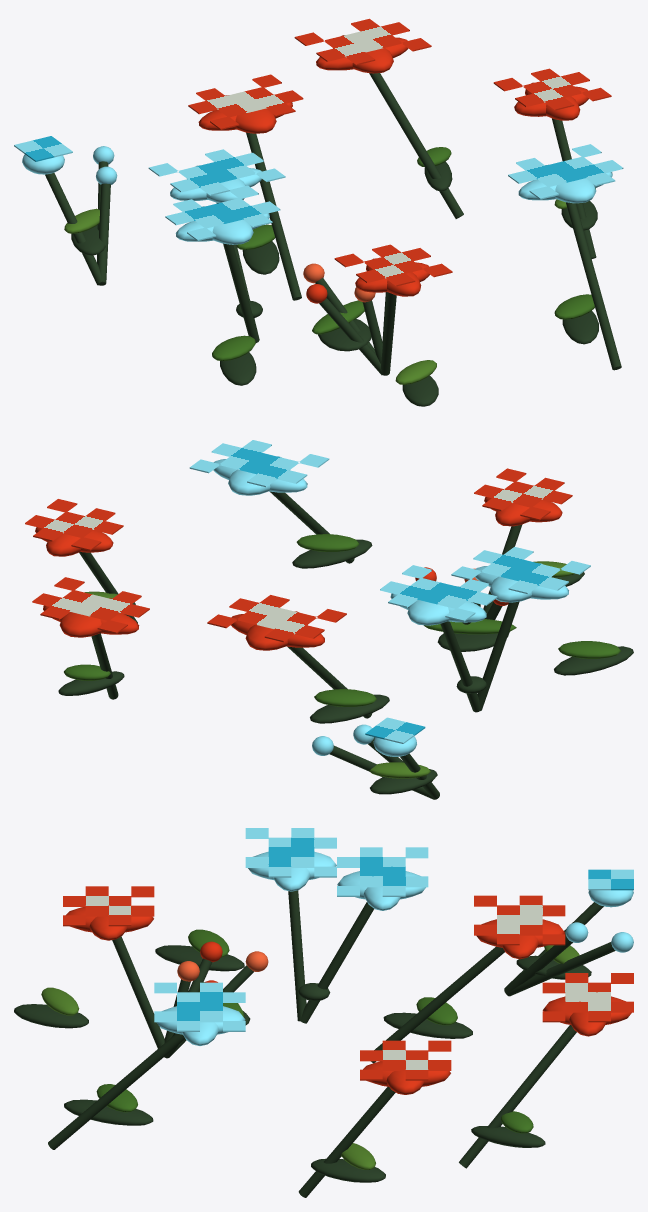
The model's file is CMU3DFlowersbr2.glb.
3 renders of one model, top to bottom at view 1: azimuth 30°, elevation 25°; view 2: azimuth 150°, elevation 25°; view 3: azimuth 270°, elevation 25°, orthographic. The views are drawn at different scales.
Parts seen in each view (by area): view 1: bloom 7 original petal colors, bloom 8 original petal colors, bloom 3 original petal colors, bloom 10 original petal colors, bloom 5 original petal colors, bloom 6 original petal colors, bloom 14 original petal colors, bloom 10 branching stem, bloom 3 branching stem, bloom 5 branching stem, bloom 8 branching stem, bloom 1 branching stem (+27 smaller); view 2: bloom 3 original petal colors, bloom 10 original petal colors, bloom 5 original petal colors, bloom 7 original petal colors, bloom 8 original petal colors, bloom 6 original petal colors, bloom 14 original petal colors, foliage 8 low leaf, foliage 6 low leaf, foliage 3 low leaf, bloom 8 branching stem, bloom 1 original petal colors (+26 smaller); view 3: bloom 5 original petal colors, bloom 8 original petal colors, bloom 3 original petal colors, bloom 7 original petal colors, bloom 10 original petal colors, bloom 6 original petal colors, bloom 14 original petal colors, bloom 10 branching stem, bloom 3 branching stem, bloom 5 branching stem, bloom 6 branching stem, bloom 7 branching stem (+33 smaller).
Part boxes in pixels (box(x1,y1,x2,y2)): bloom 7 original petal colors: box(148, 149, 285, 195); bloom 8 original petal colors: box(165, 185, 280, 240); bloom 3 original petal colors: box(294, 18, 431, 65); bloom 10 original petal colors: box(508, 144, 623, 199); bloom 5 original petal colors: box(188, 74, 303, 129); bloom 6 original petal colors: box(493, 68, 611, 110); bloom 14 original petal colors: box(334, 244, 452, 286); bloom 10 branching stem: box(566, 202, 621, 370); bloom 3 branching stem: box(369, 73, 463, 218); bloom 5 branching stem: box(246, 132, 301, 300); bloom 8 branching stem: box(223, 243, 259, 342); bloom 1 branching stem: box(45, 173, 102, 285); bloom 3 original petal colors: box(32, 577, 149, 633); bloom 10 original petal colors: box(189, 440, 329, 487); bloom 5 original petal colors: box(207, 595, 346, 642); bloom 7 original petal colors: box(380, 565, 497, 621); bloom 8 original petal colors: box(451, 546, 590, 593); bloom 6 original petal colors: box(25, 499, 123, 550); bloom 14 original petal colors: box(474, 468, 572, 520); foliage 8 low leaf: box(292, 539, 372, 568); foliage 6 low leaf: box(554, 646, 633, 675); foliage 3 low leaf: box(310, 694, 389, 723); bloom 8 branching stem: box(477, 601, 519, 711); bloom 1 original petal colors: box(365, 717, 425, 743); bloom 5 original petal colors: box(474, 895, 565, 945); bloom 8 original petal colors: box(245, 828, 336, 877); bloom 3 original petal colors: box(542, 973, 633, 1022); bloom 7 original petal colors: box(337, 847, 428, 896); bloom 10 original petal colors: box(154, 982, 245, 1031); bloom 6 original petal colors: box(360, 1040, 451, 1080); bloom 14 original petal colors: box(63, 886, 154, 926); bloom 10 branching stem: box(48, 1033, 185, 1149); bloom 3 branching stem: box(459, 1025, 576, 1168); bloom 5 branching stem: box(371, 946, 504, 1063); bloom 6 branching stem: box(298, 1086, 395, 1197); bloom 7 branching stem: box(300, 902, 373, 1023).
Bounding box in the file's own units: 0.7915 × 0.2309 × 0.8482.
13 materials, 7 textured.
